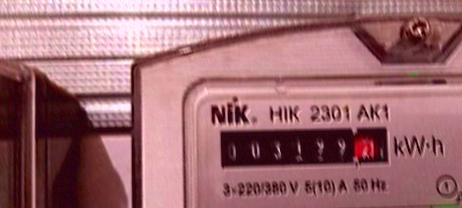0: (251, 141, 262, 160), (228, 142, 237, 160)
1: (295, 137, 304, 155)
3: (273, 140, 283, 160)
6: (361, 145, 371, 159)
9: (316, 136, 326, 156), (338, 138, 348, 156)
screen: (213, 119, 396, 175)
